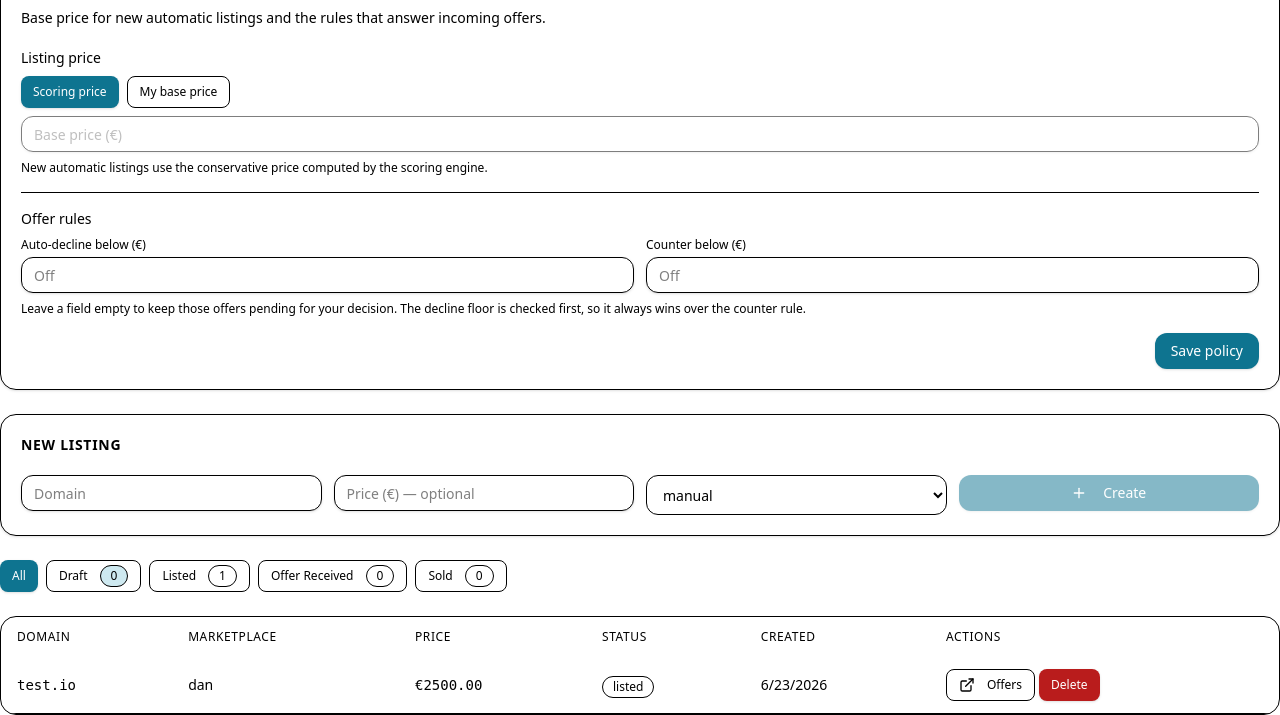
Scenario: ListingsPage › shows offers dialog for a listing
The image size is (1280, 715).
(page scrolled)
Expected: the text "test.io" is shown, [1,657,172,714]
Step 1. Click the button "Offers" → (990, 685), box [946,669,1035,701]
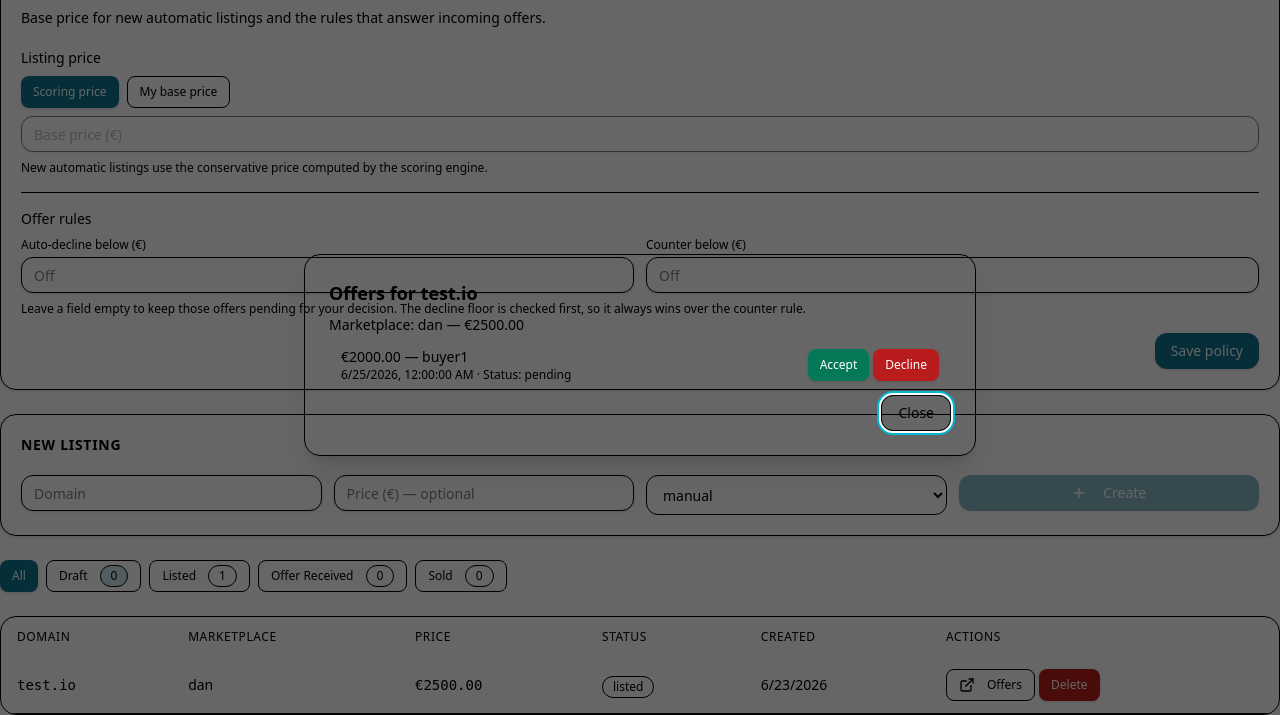
Expected: the heading "Offers for test.io" is shown, [329,281,478,305]
